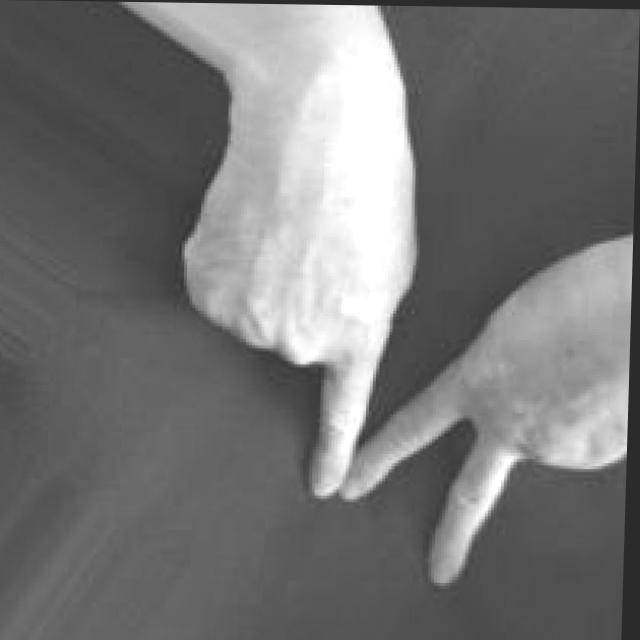N: (96, 2, 640, 591)
